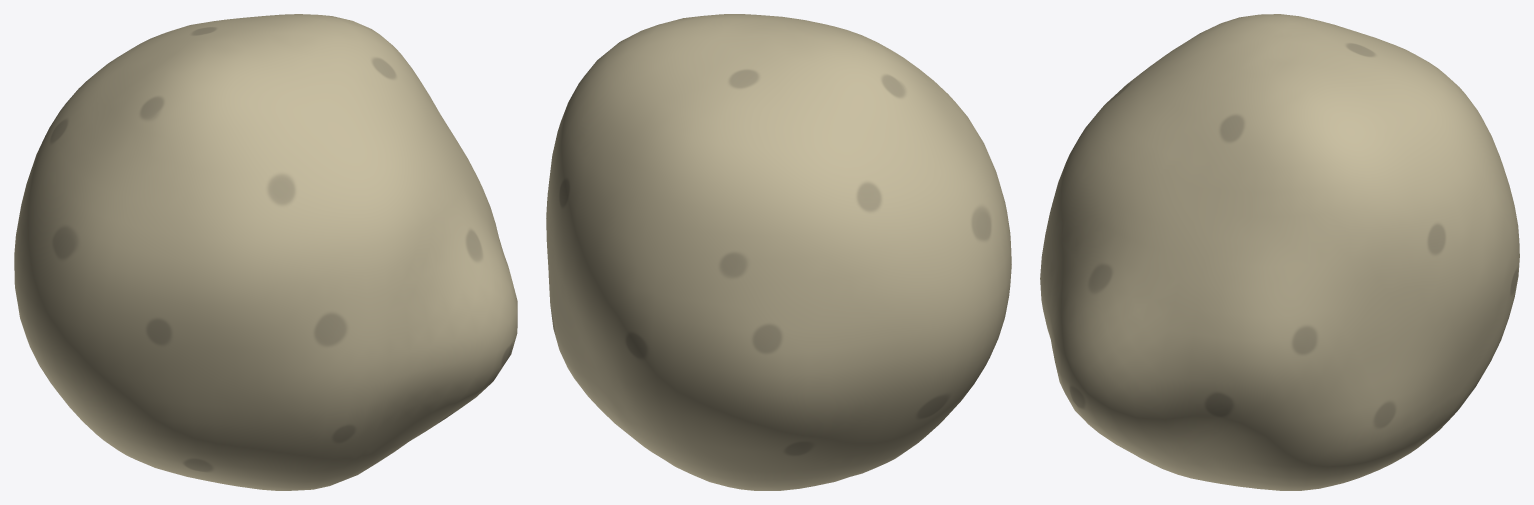
Rendered from CellMembrane.obj.
3 views of the same model, side by side, from view 1: azimuth 30°, elevation 25°; view 2: azimuth 150°, elevation 25°; view 3: azimuth 270°, elevation 25° (orthographic).
Visible parts, largest first — view 1: Cell_Membrane; view 2: Cell_Membrane; view 3: Cell_Membrane.
Part boxes in pixels (x1,y1,x2,y2): Cell_Membrane: (14,14,517,490); Cell_Membrane: (546,14,1011,490); Cell_Membrane: (1040,14,1519,490).
Size of the model in its own units: 2.18 by 2.05 by 2.07.
1 material, 1 textured.
